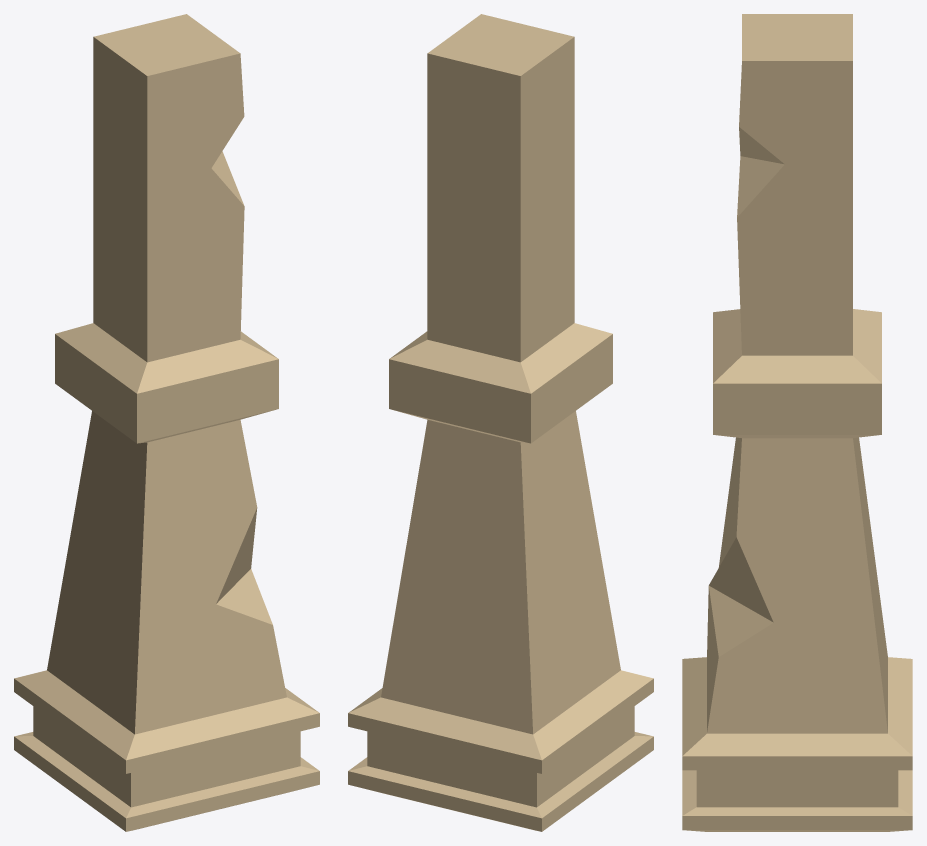
The model's file is SM_TemplePillar05_Gaeta.fbx.
The picture shows the model from 3 angles, left to right: view 1: azimuth 30°, elevation 25°; view 2: azimuth 150°, elevation 25°; view 3: azimuth 270°, elevation 25°; orthographic projection. The views are drawn at different scales.
Visible parts, largest first — view 1: Cube.039; view 2: Cube.039; view 3: Cube.039.
Boxes of the visible parts, box(x1,y1,x2,y2) form: Cube.039: box(14, 14, 319, 831); Cube.039: box(348, 14, 653, 831); Cube.039: box(682, 14, 912, 831).
Bounding box in the file's own units: 0.5133 × 1.86 × 0.5133.
